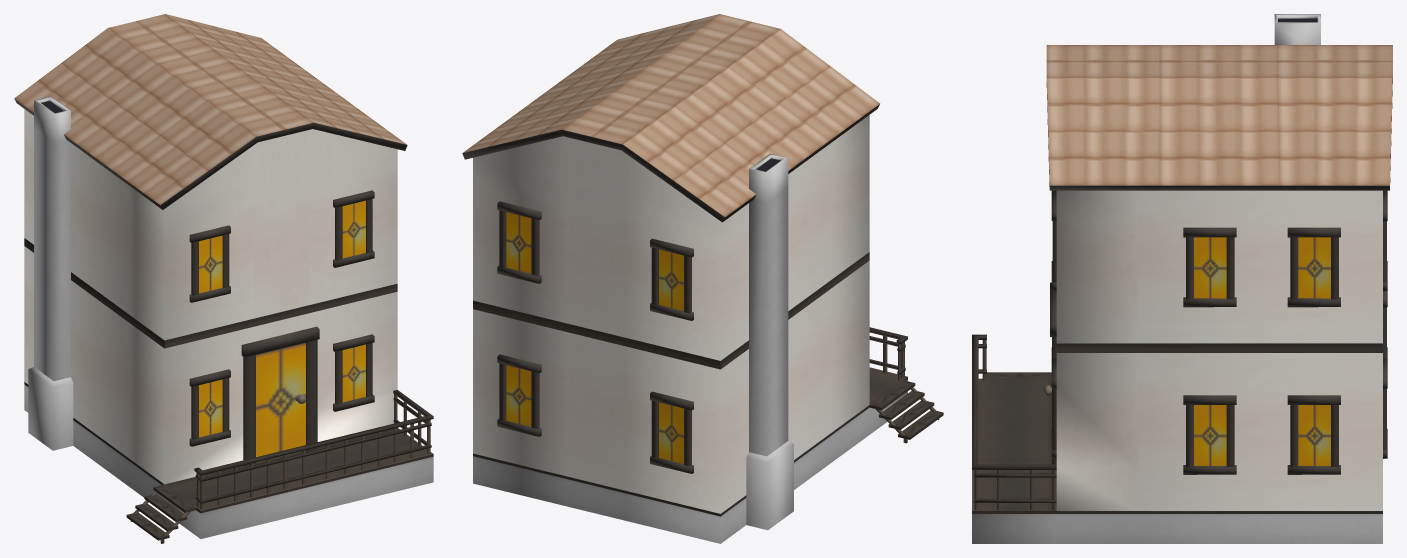
The model's file is Town Houses Variant 4 (Sepia).fbx.
3 renders of one model, left to right at view 1: azimuth 30°, elevation 25°; view 2: azimuth 150°, elevation 25°; view 3: azimuth 270°, elevation 25°, orthographic. The views are drawn at different scales.
Visible parts, largest first — view 1: Town House 4 V2; view 2: Town House 4 V2; view 3: Town House 4 V2.
Boxes of the visible parts, bbox=[...] form: Town House 4 V2: bbox=[14, 14, 433, 543]; Town House 4 V2: bbox=[462, 14, 943, 543]; Town House 4 V2: bbox=[972, 14, 1392, 543].
Size of the model in its own units: 667 by 820 by 751.
1 material, 1 textured.
